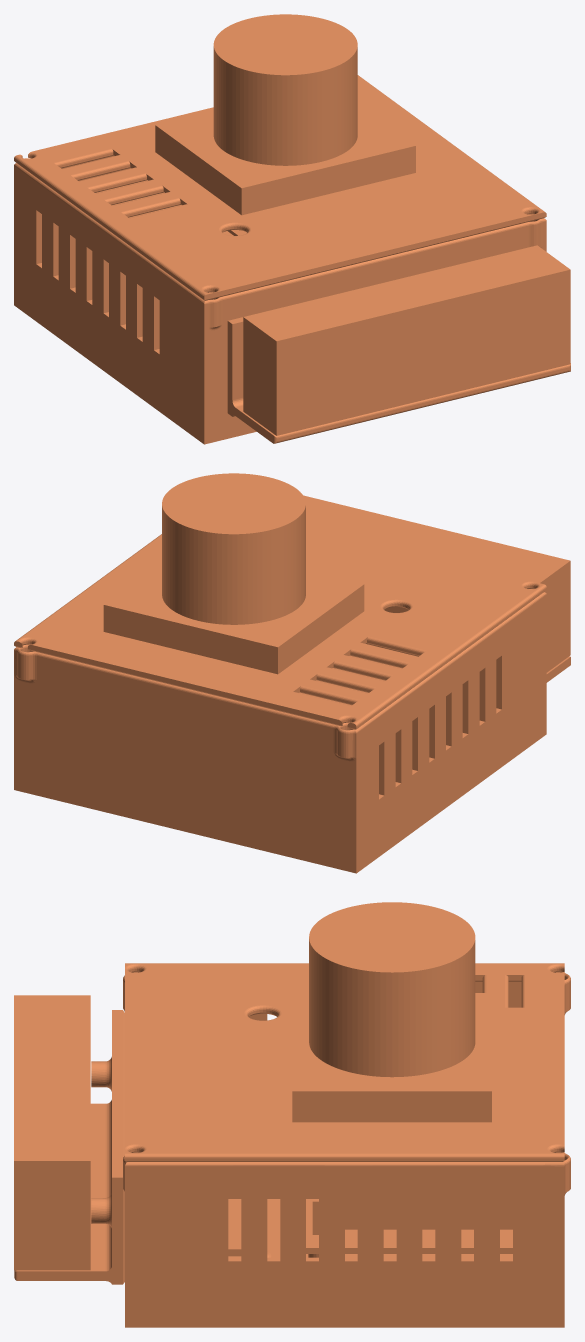
File: brain_module.glb
3 renders of one model, top to bottom at view 1: azimuth 30°, elevation 25°; view 2: azimuth 150°, elevation 25°; view 3: azimuth 270°, elevation 25°, orthographic. The views are drawn at different scales.
Parts seen in each view (by area): view 1: brain_module; view 2: brain_module; view 3: brain_module.
Part boxes in pixels (<box>): brain_module: <box>14,14,570,444</box>; brain_module: <box>14,473,570,873</box>; brain_module: <box>14,902,570,1327</box>.
Size of the model in its own units: 0.106 by 0.0848 by 0.1293.
